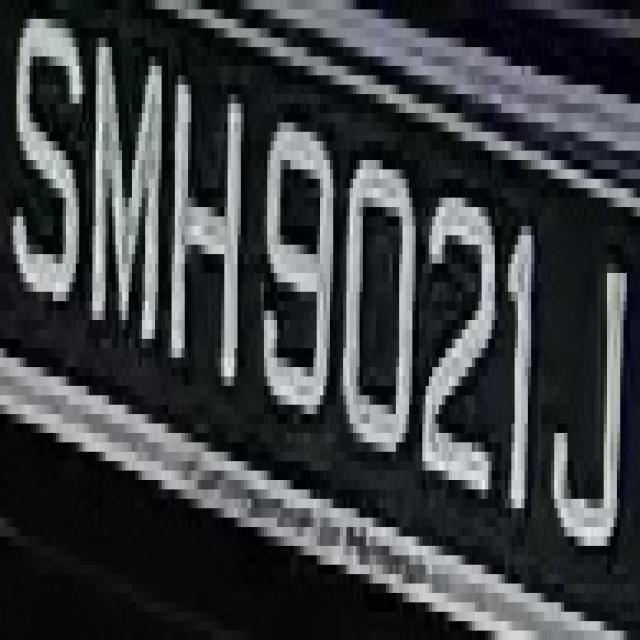0: (340, 122, 416, 480)
1: (492, 188, 534, 574)
2: (416, 150, 498, 536)
9: (257, 94, 343, 433)
H: (165, 66, 247, 423)
J: (544, 217, 630, 574)
M: (79, 29, 162, 376)
S: (3, 19, 82, 320)
